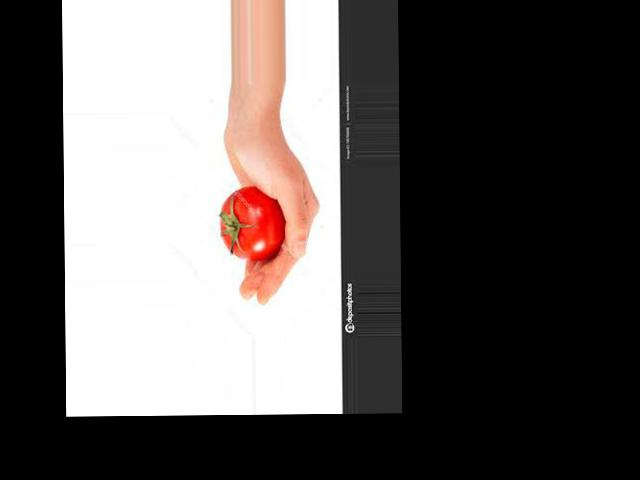tomato: (220, 185, 284, 258)
